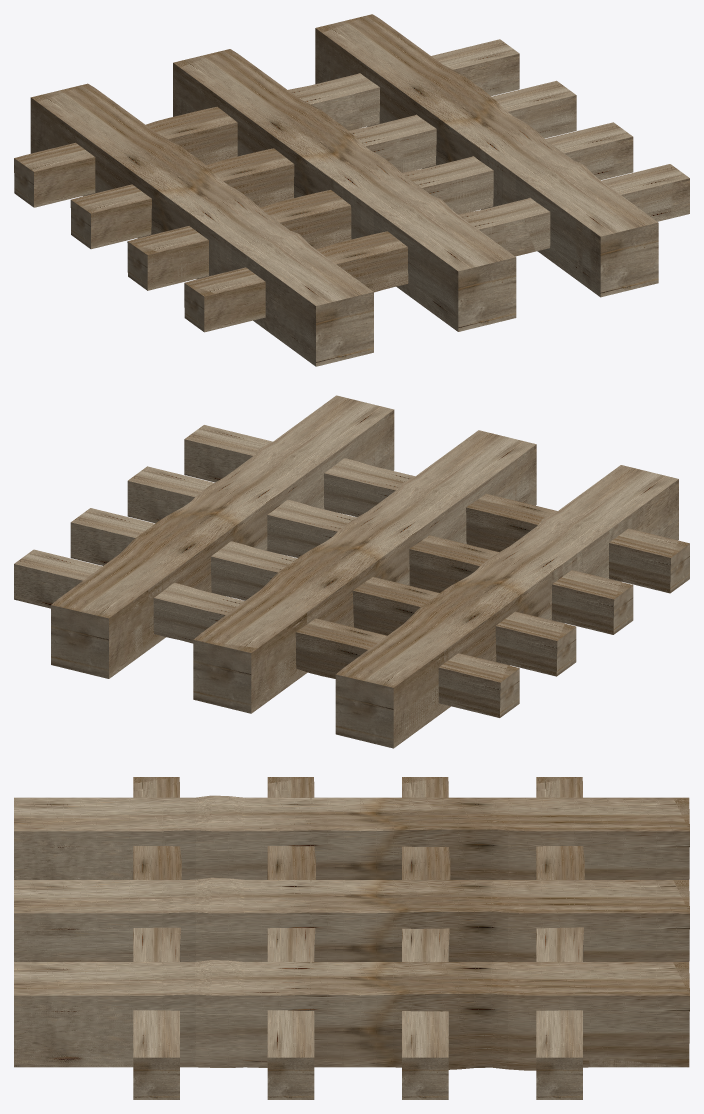
File: 天井木柱(白).fbx
The picture shows the model from 3 angles, top to bottom: view 1: azimuth 30°, elevation 25°; view 2: azimuth 150°, elevation 25°; view 3: azimuth 270°, elevation 25°; orthographic projection. The views are drawn at different scales.
Parts seen in each view (by area): view 1: Cube.005; view 2: Cube.005; view 3: Cube.005.
Part boxes in pixels (x1,y1,x2,y2): Cube.005: [14, 14, 689, 366]; Cube.005: [14, 395, 689, 748]; Cube.005: [14, 777, 689, 1099].
Size of the model in its own units: 16.89 by 2.15 by 17.18.
Materials: 1 (1 with a texture image).
